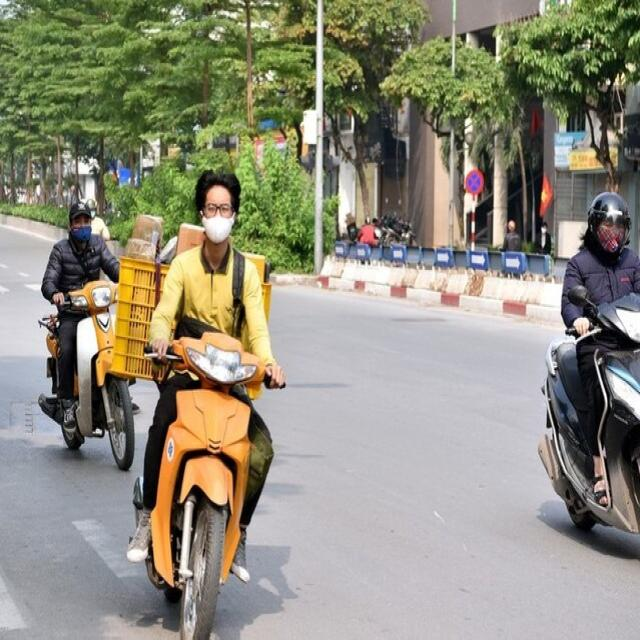no_helmet: (188, 153, 251, 255)
